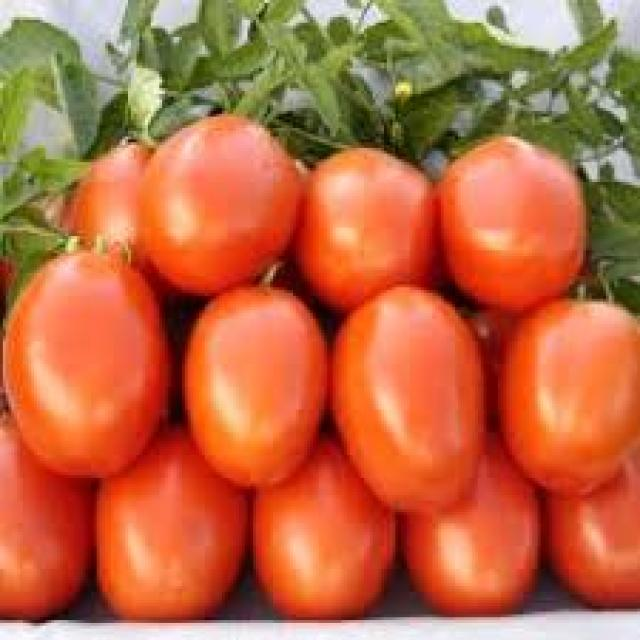Fresh_tomato: (2, 246, 158, 453), (98, 425, 240, 634), (344, 287, 491, 484), (436, 122, 581, 311), (180, 296, 326, 470), (148, 107, 284, 279), (396, 443, 536, 602), (262, 446, 388, 622), (300, 145, 449, 293), (525, 291, 640, 479)
